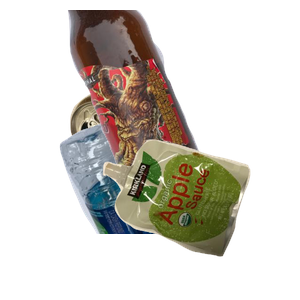glass: (65, 10, 300, 190)
metal: (67, 87, 206, 234)
plastic: (57, 120, 284, 300)
trash: (100, 137, 300, 300)
